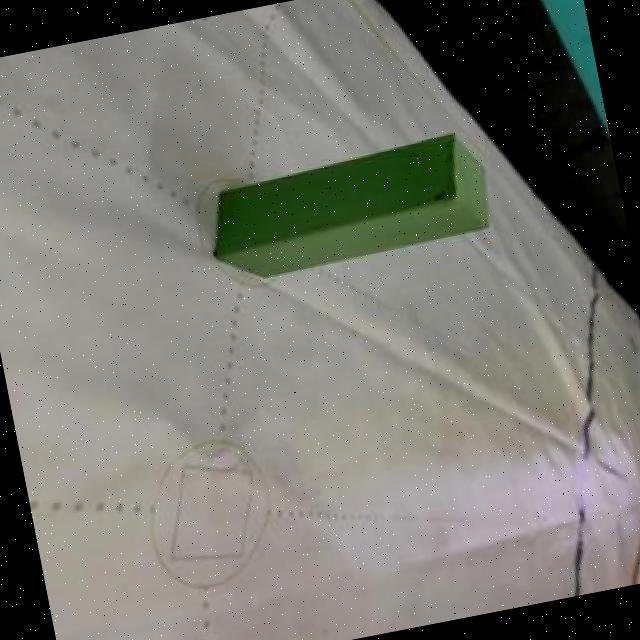greenbox: (198, 123, 501, 286)
